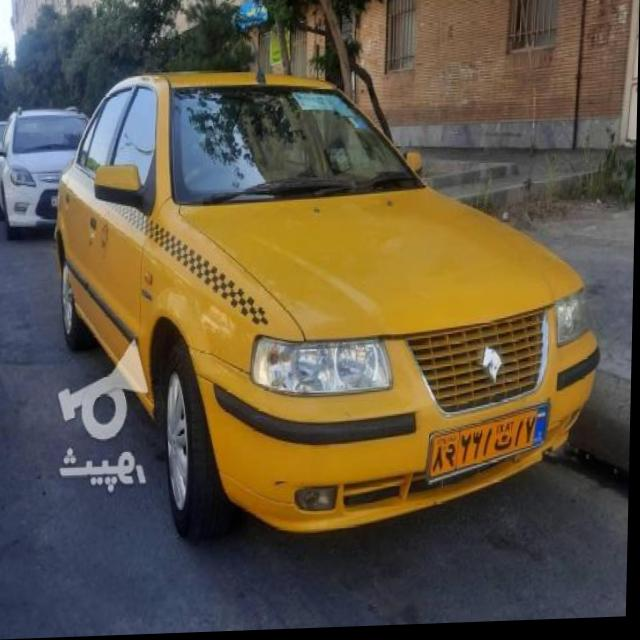licence: (429, 406, 552, 483)
